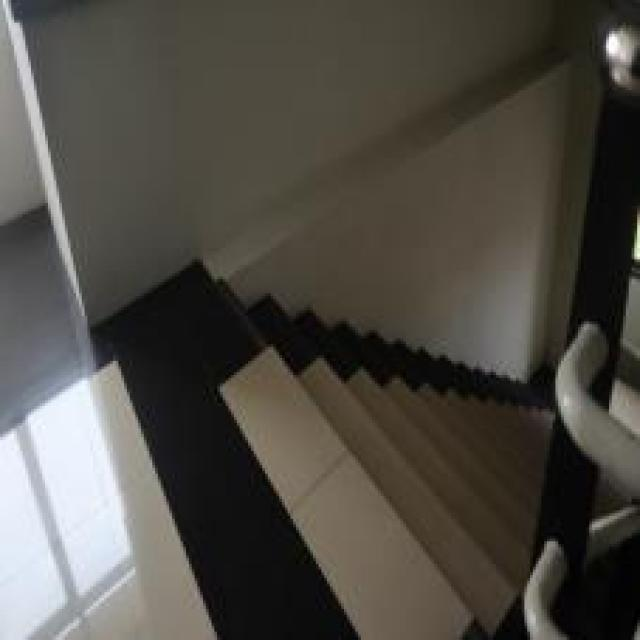downstair: (193, 337, 520, 605)
